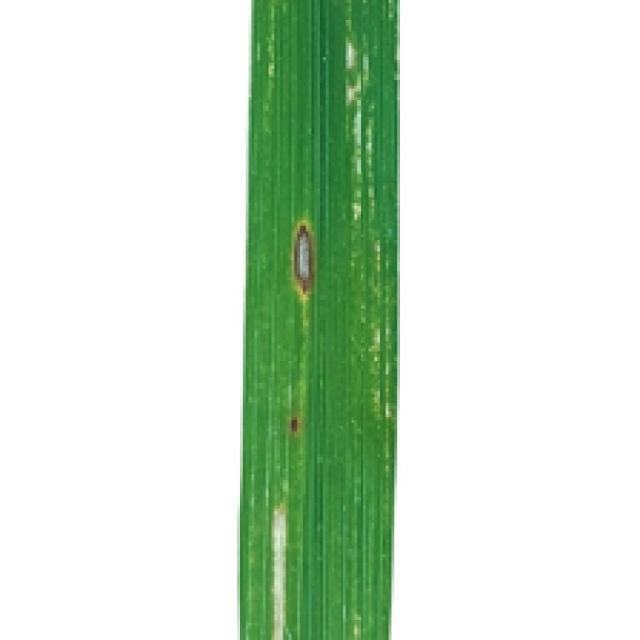Rice___Rice_Blast: (238, 0, 403, 637)
